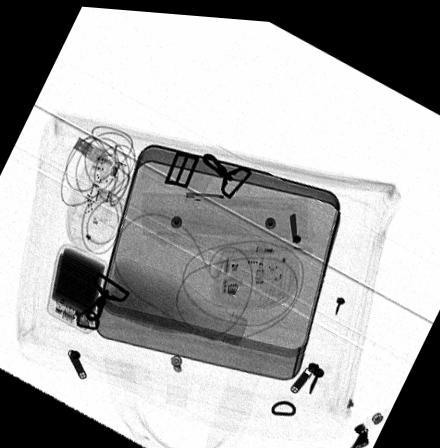Powerbank: (45, 240, 105, 334)
